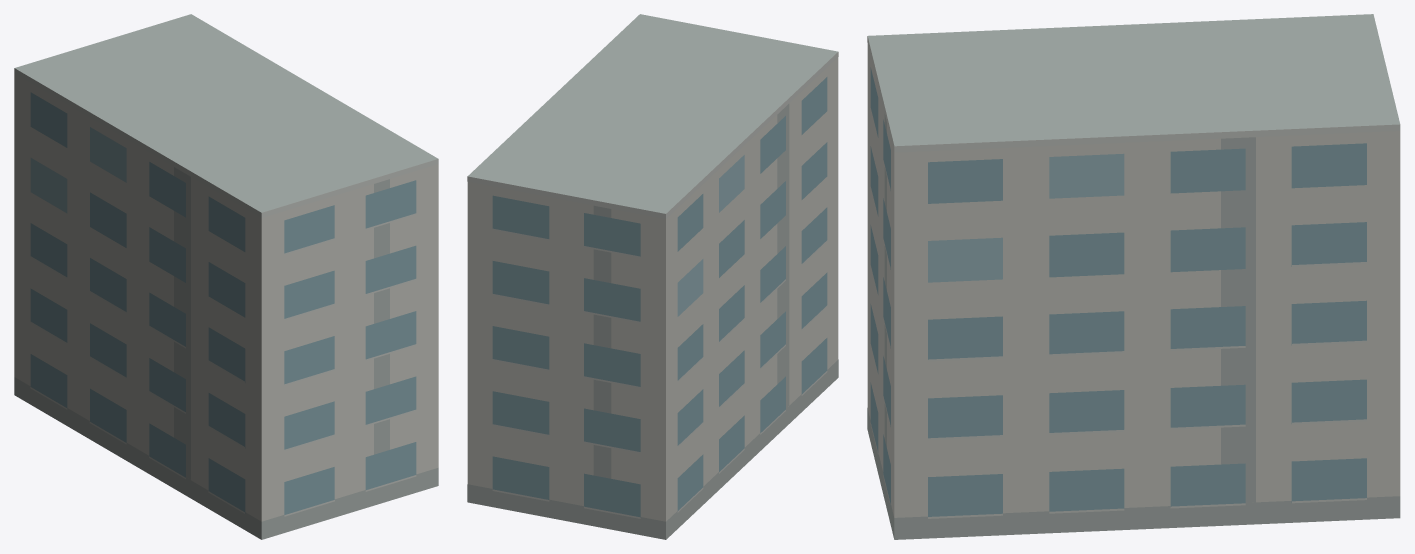
Rendered from survey-upis-32701312.glb.
The picture shows the model from 3 angles, left to right: view 1: azimuth 30°, elevation 25°; view 2: azimuth 150°, elevation 25°; view 3: azimuth 270°, elevation 25°; orthographic projection. The views are drawn at different scales.
Visible parts, largest first — view 1: survey-upis-32701312.tmp; view 2: survey-upis-32701312.tmp; view 3: survey-upis-32701312.tmp.
Part boxes in pixels (box(x1,y1,x2,y2)): survey-upis-32701312.tmp: box(14, 14, 438, 539); survey-upis-32701312.tmp: box(467, 14, 838, 539); survey-upis-32701312.tmp: box(867, 14, 1400, 539).
Bounding box in the file's own units: 10.6 × 14.7 × 18.04.
